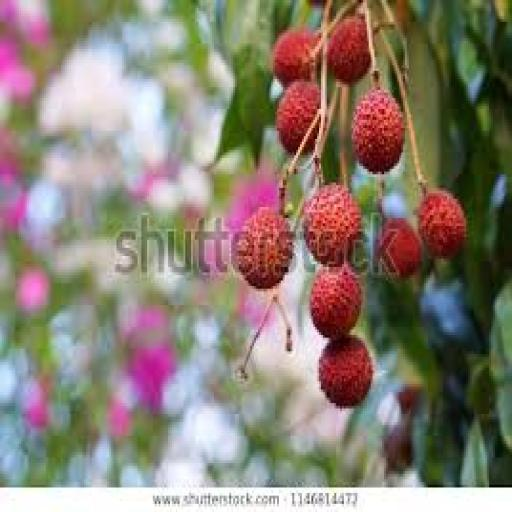lychee: (304, 183, 361, 266), (235, 207, 292, 288), (352, 88, 405, 174), (310, 265, 362, 340), (320, 335, 372, 408), (419, 191, 466, 258), (276, 82, 320, 152), (327, 17, 370, 84), (274, 28, 319, 87), (377, 218, 422, 277), (383, 423, 412, 473), (396, 384, 422, 416)
